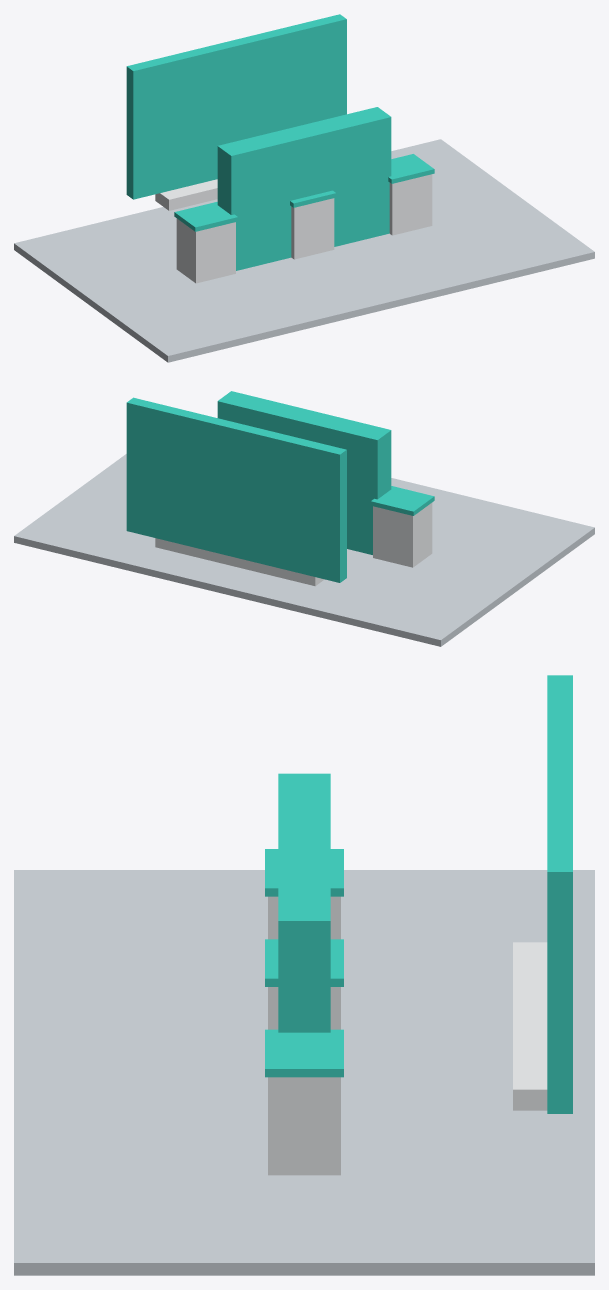
The picture shows the model from 3 angles, top to bottom: view 1: azimuth 30°, elevation 25°; view 2: azimuth 150°, elevation 25°; view 3: azimuth 270°, elevation 25°; orthographic projection. The views are drawn at different scales.
Parts seen in each view (by area): view 1: Exhibition Booth Concept; view 2: Exhibition Booth Concept; view 3: Exhibition Booth Concept.
Part boxes in pixels (box(x1,y1,x2,y2)): Exhibition Booth Concept: box(14, 14, 594, 362); Exhibition Booth Concept: box(14, 391, 594, 646); Exhibition Booth Concept: box(14, 675, 594, 1275).
Size of the model in its own units: 8 by 2.9 by 5.
